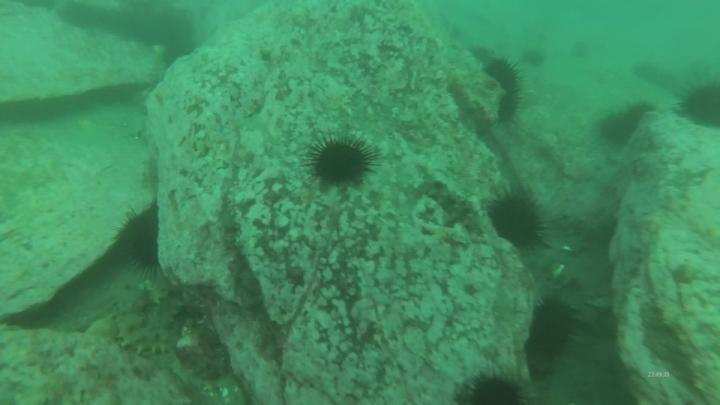echinus: (485, 188, 556, 256), (302, 133, 379, 190), (528, 294, 585, 362), (115, 207, 166, 275), (460, 370, 529, 405), (677, 79, 720, 135), (482, 56, 526, 96), (599, 109, 639, 146), (495, 88, 525, 130), (624, 98, 659, 126), (630, 57, 665, 85), (465, 41, 500, 67), (522, 45, 550, 73)
holothurian: (110, 285, 180, 359)
